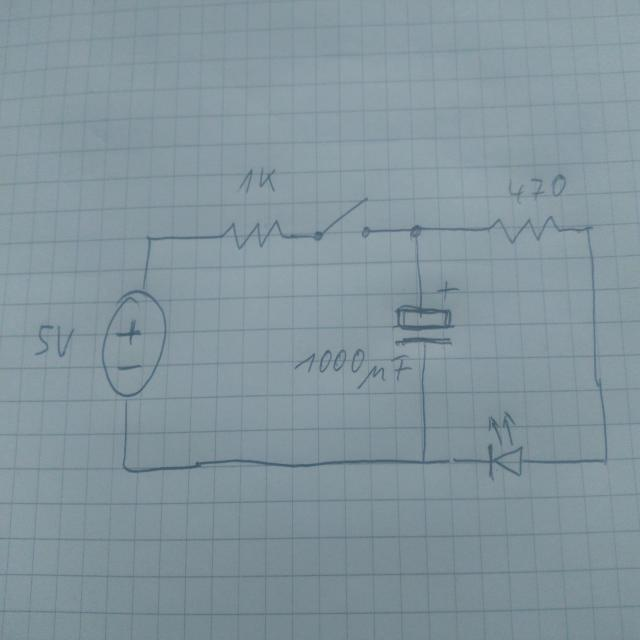capacitor: (392, 279, 459, 348)
diode: (484, 408, 524, 481)
junction: (414, 448, 432, 474), (407, 219, 425, 244), (579, 219, 598, 242), (118, 451, 135, 476), (597, 446, 613, 472), (142, 229, 158, 252)
resistor: (484, 211, 564, 249), (217, 217, 288, 256)
source: (100, 288, 170, 401)
switch: (311, 194, 373, 244)
text: (291, 347, 414, 392), (506, 170, 568, 207), (33, 320, 76, 361), (236, 163, 280, 199)
